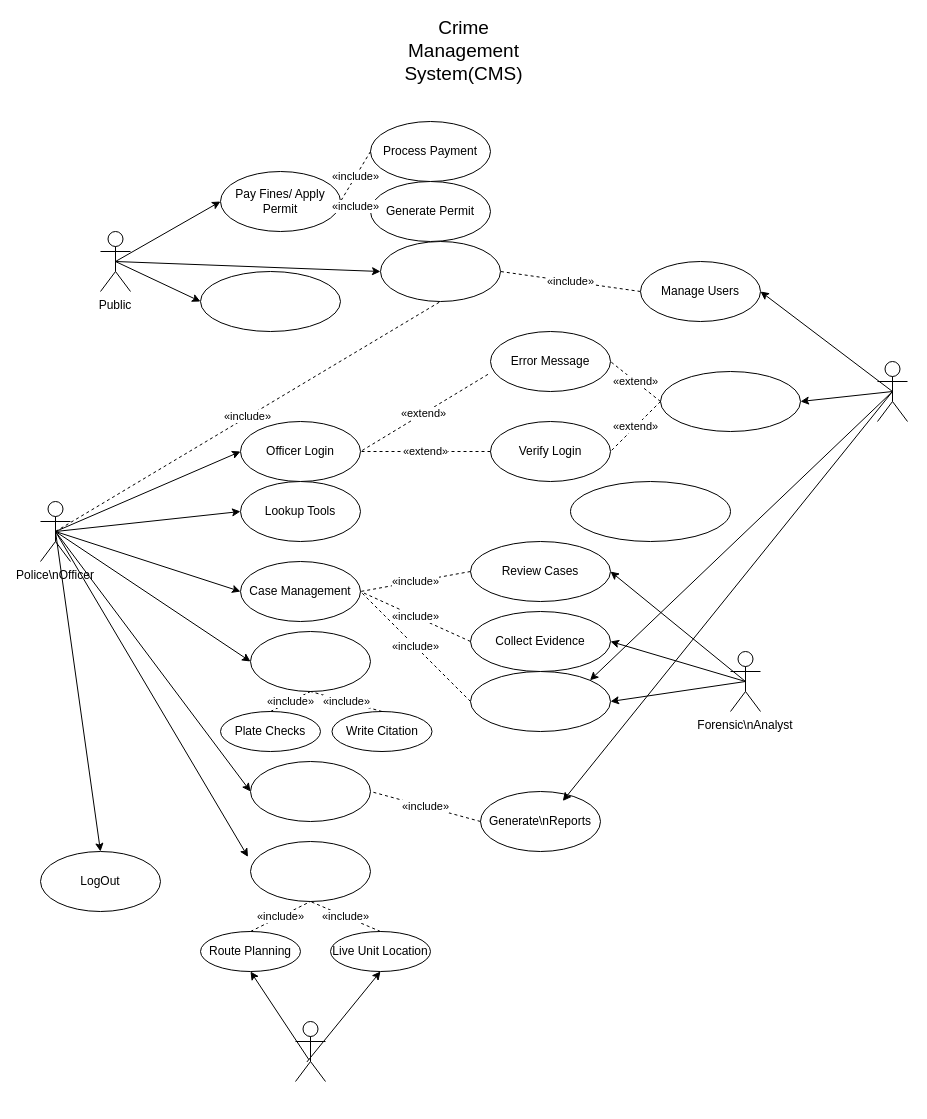
Image size: 927x1119. Some labels were removed from this diagram. Each missing label, with the centre of its shape:
"Admin" goes at (x=892, y=391).
"Admin Login" goes at (x=730, y=401).
"Check Evidence" goes at (x=540, y=701).
"Communication and Reports" goes at (x=310, y=791).
"Dispatcher" goes at (x=310, y=1051).
"File Incident\nReport" goes at (x=270, y=301).
"Give_Feedback" goes at (x=440, y=271).
"Mapping & AVL" goes at (x=310, y=871).
"Track Chain-of-Custody" goes at (x=650, y=511).
"Traffice and Citations" goes at (x=310, y=661).
